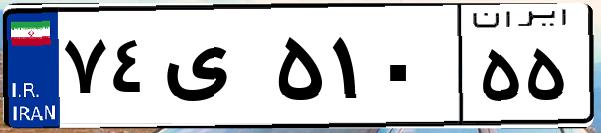0: (385, 28, 445, 110)
1: (330, 28, 385, 110)
4: (110, 28, 158, 98)
5: (270, 28, 330, 110), (475, 38, 525, 113), (525, 38, 570, 115)
7: (57, 26, 110, 100)
ی: (158, 20, 270, 120)
